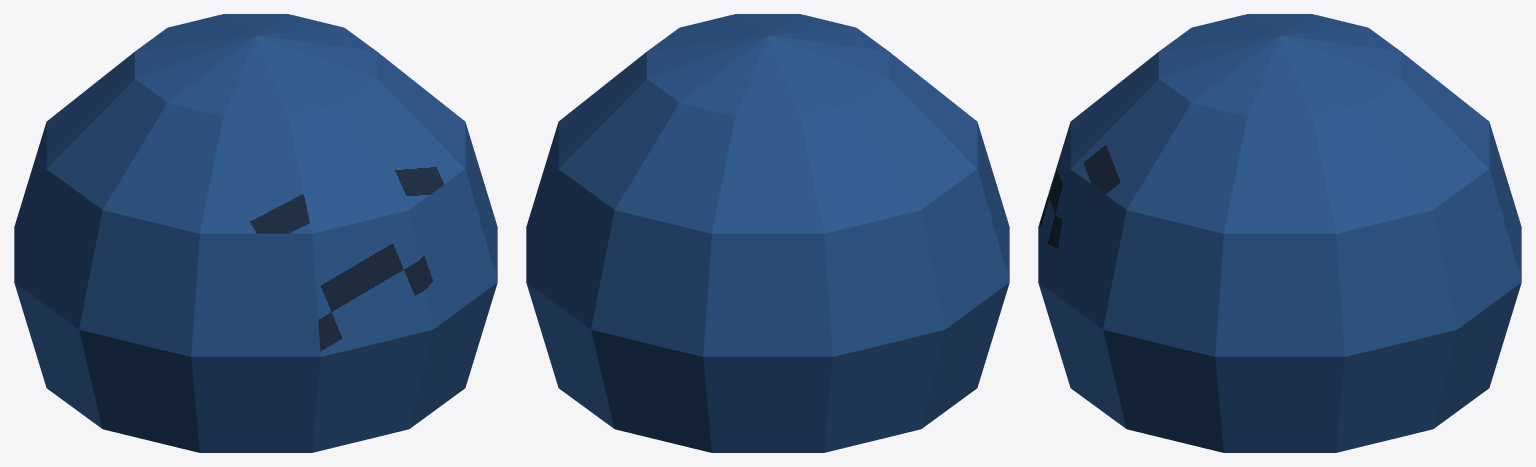
File: slimeboss.obj
The picture shows the model from 3 angles, left to right: view 1: azimuth 30°, elevation 25°; view 2: azimuth 150°, elevation 25°; view 3: azimuth 270°, elevation 25°; orthographic projection.
Visible parts, largest first — view 1: sphere; view 2: sphere; view 3: sphere.
Boxes of the visible parts, x1=… form: sphere: x1=14, y1=14, x2=497, y2=452; sphere: x1=526, y1=14, x2=1009, y2=452; sphere: x1=1038, y1=14, x2=1521, y2=452.
Bounding box in the file's own units: 0.5 × 0.4233 × 0.5.
1 material, 1 textured.
